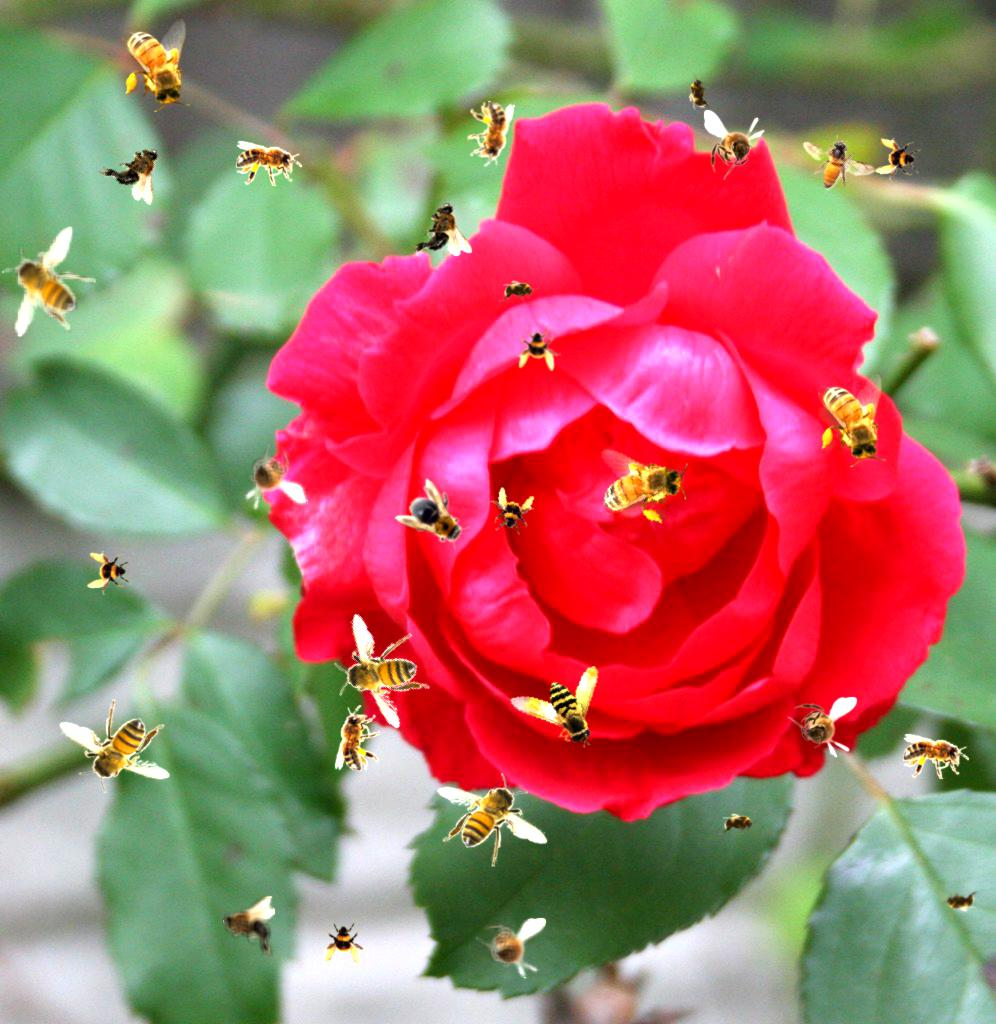Bee: (306, 595, 453, 741), (437, 773, 548, 867), (2, 226, 96, 337), (59, 699, 170, 793), (503, 650, 607, 750), (588, 443, 694, 532), (791, 119, 877, 206), (394, 476, 480, 560), (230, 435, 309, 521), (122, 19, 190, 112), (818, 374, 886, 467), (96, 130, 177, 208), (704, 110, 765, 180), (476, 918, 546, 979), (787, 697, 857, 758), (465, 100, 515, 169), (410, 203, 472, 256), (222, 896, 275, 958), (236, 141, 302, 186), (335, 705, 380, 771), (903, 734, 969, 779), (485, 485, 537, 537), (874, 136, 922, 184), (87, 551, 131, 595), (517, 327, 561, 371), (323, 921, 367, 965), (685, 71, 713, 115), (499, 280, 539, 302), (719, 813, 759, 835), (940, 890, 980, 912)
